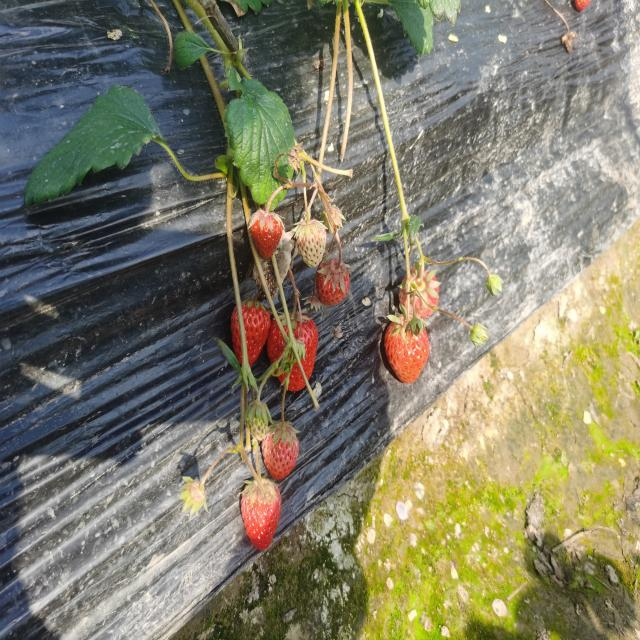stem: (264, 186, 283, 216), (256, 458, 263, 484), (290, 297, 297, 320), (335, 246, 341, 271), (281, 405, 286, 429), (406, 295, 410, 324)
strawberry: (384, 313, 429, 384), (241, 478, 282, 550), (262, 422, 299, 479), (243, 299, 270, 366), (251, 212, 283, 259), (316, 263, 350, 306), (231, 306, 241, 365)
